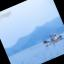fishing boat: (41, 27, 64, 46)
